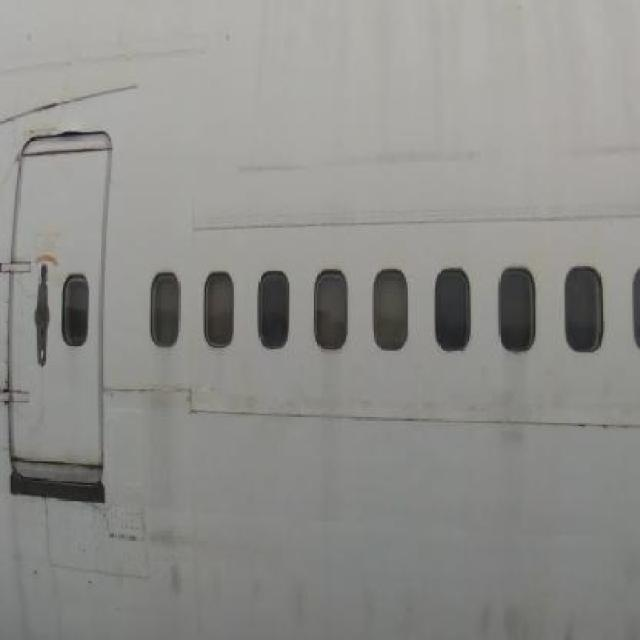Scartch: (233, 142, 495, 184), (147, 516, 222, 618), (471, 584, 582, 640), (245, 562, 317, 636), (355, 572, 420, 639), (557, 134, 640, 171)
